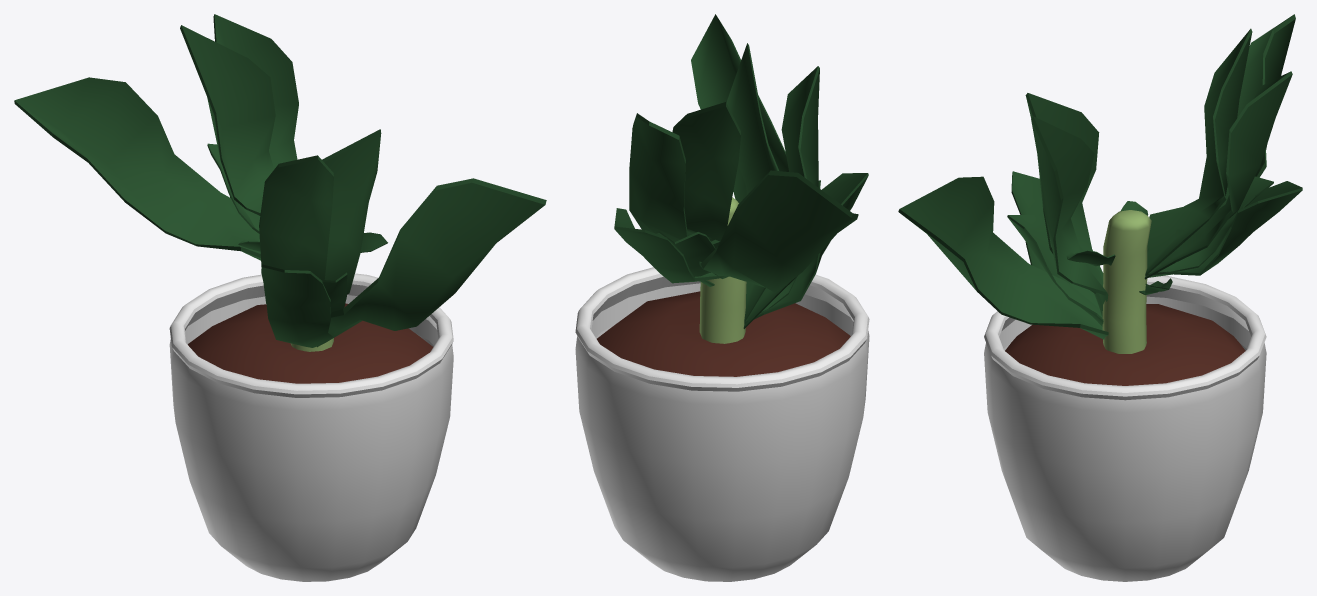
The model's file is PotPlant01.fbx.
3 renders of one model, left to right at view 1: azimuth 30°, elevation 25°; view 2: azimuth 150°, elevation 25°; view 3: azimuth 270°, elevation 25°, orthographic. The views are drawn at different scales.
Visible parts, largest first — view 1: polySurface1610, polySurface26, polySurface27; view 2: polySurface26, polySurface1610, polySurface27, polySurface25; view 3: polySurface26, polySurface1610, polySurface27, polySurface25.
Boxes of the visible parts, x1,y1,x2,y2 form: polySurface1610: (14,14,546,347); polySurface26: (169,273,453,581); polySurface27: (188,303,433,383); polySurface26: (575,267,869,581); polySurface1610: (614,14,868,328); polySurface27: (597,291,850,376); polySurface25: (699,197,746,343); polySurface26: (984,275,1266,581); polySurface1610: (898,14,1302,339); polySurface27: (1005,304,1245,385); polySurface25: (1102,210,1151,353).
Size of the model in its own units: 8.94 by 12.6 by 9.43.
